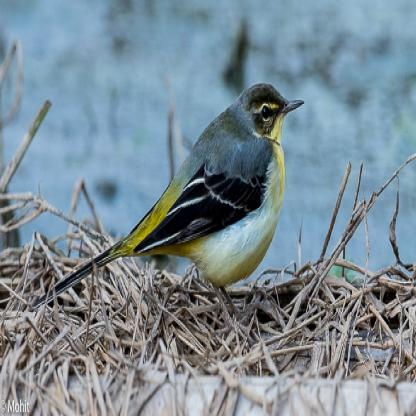Burung: (38, 87, 306, 304)
